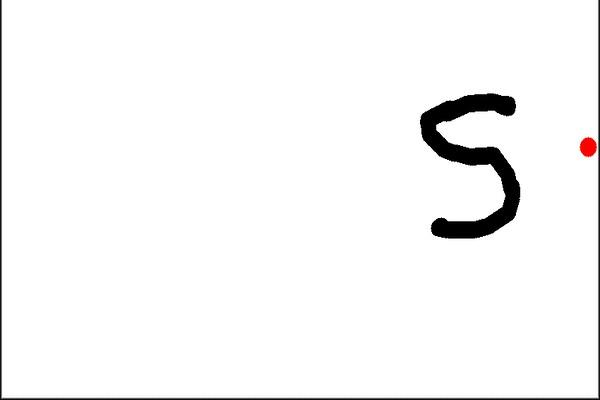S: (411, 87, 527, 242)
